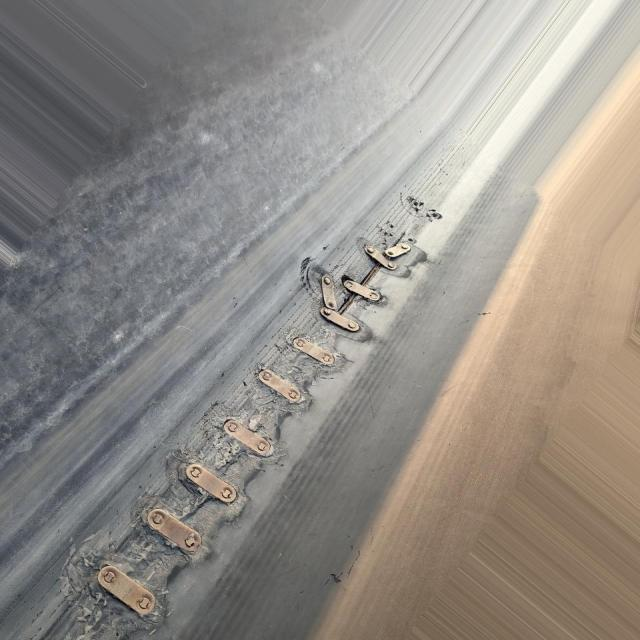patch work: (13, 184, 451, 638)
